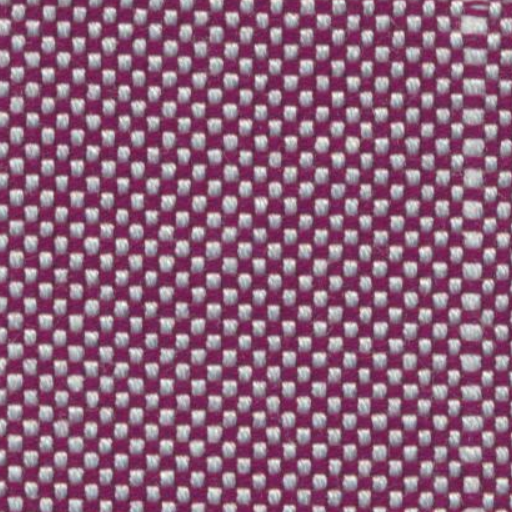DaiSha: (450, 6, 497, 495)
